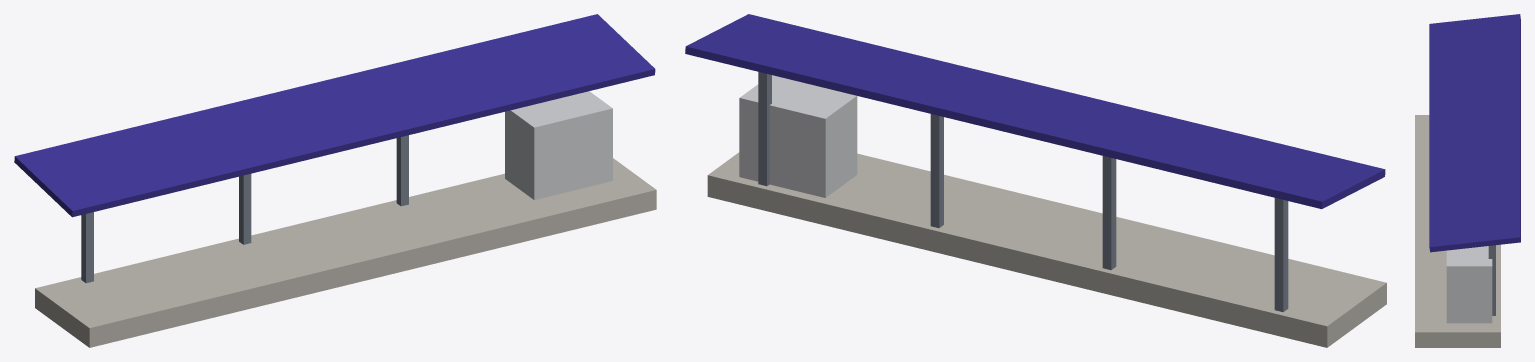
The model's file is rail_terminal.glb.
3 renders of one model, left to right at view 1: azimuth 30°, elevation 25°; view 2: azimuth 150°, elevation 25°; view 3: azimuth 270°, elevation 25°, orthographic. The views are drawn at different scales.
Visible parts, largest first — view 1: rail_terminal; view 2: rail_terminal; view 3: rail_terminal.
Part boxes in pixels (box(x1,y1,x2,y2)): rail_terminal: box(14, 14, 656, 347); rail_terminal: box(685, 14, 1386, 347); rail_terminal: box(1415, 14, 1520, 347).
Bounding box in the file's own units: 18.5 × 4.39 × 3.7.
